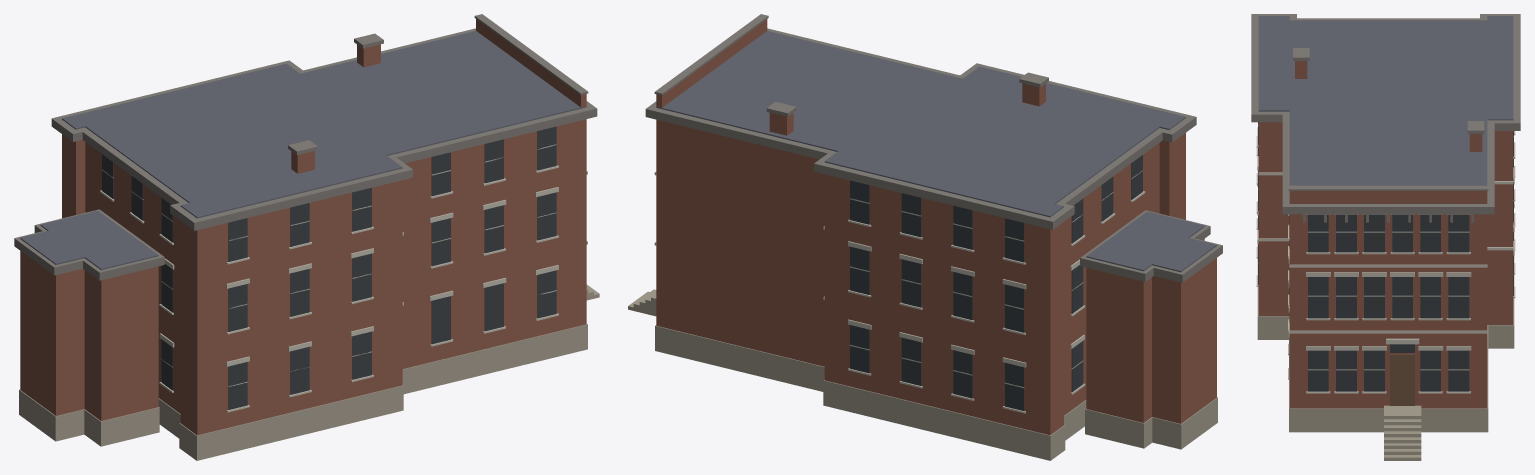
The model's file is flats_2127_prairie__draft_1904.glb.
3 views of the same model, side by side, from view 1: azimuth 30°, elevation 25°; view 2: azimuth 150°, elevation 25°; view 3: azimuth 270°, elevation 25° (orthographic). The views are drawn at different scales.
Parts seen in each view (by area): view 1: flats_2127_prairie__draft_1904; view 2: flats_2127_prairie__draft_1904; view 3: flats_2127_prairie__draft_1904.
Boxes of the visible parts, box(x1,y1,x2,y2) form: flats_2127_prairie__draft_1904: box(14, 14, 599, 460); flats_2127_prairie__draft_1904: box(628, 14, 1222, 460); flats_2127_prairie__draft_1904: box(1251, 14, 1520, 460).
Size of the model in its own units: 29.25 by 13.34 by 12.95.
